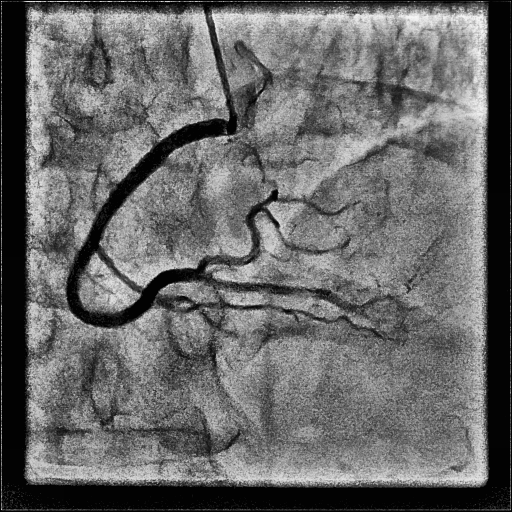pborca: (197, 190, 360, 272)
pda: (200, 272, 398, 312)
rca: (66, 119, 229, 328)
